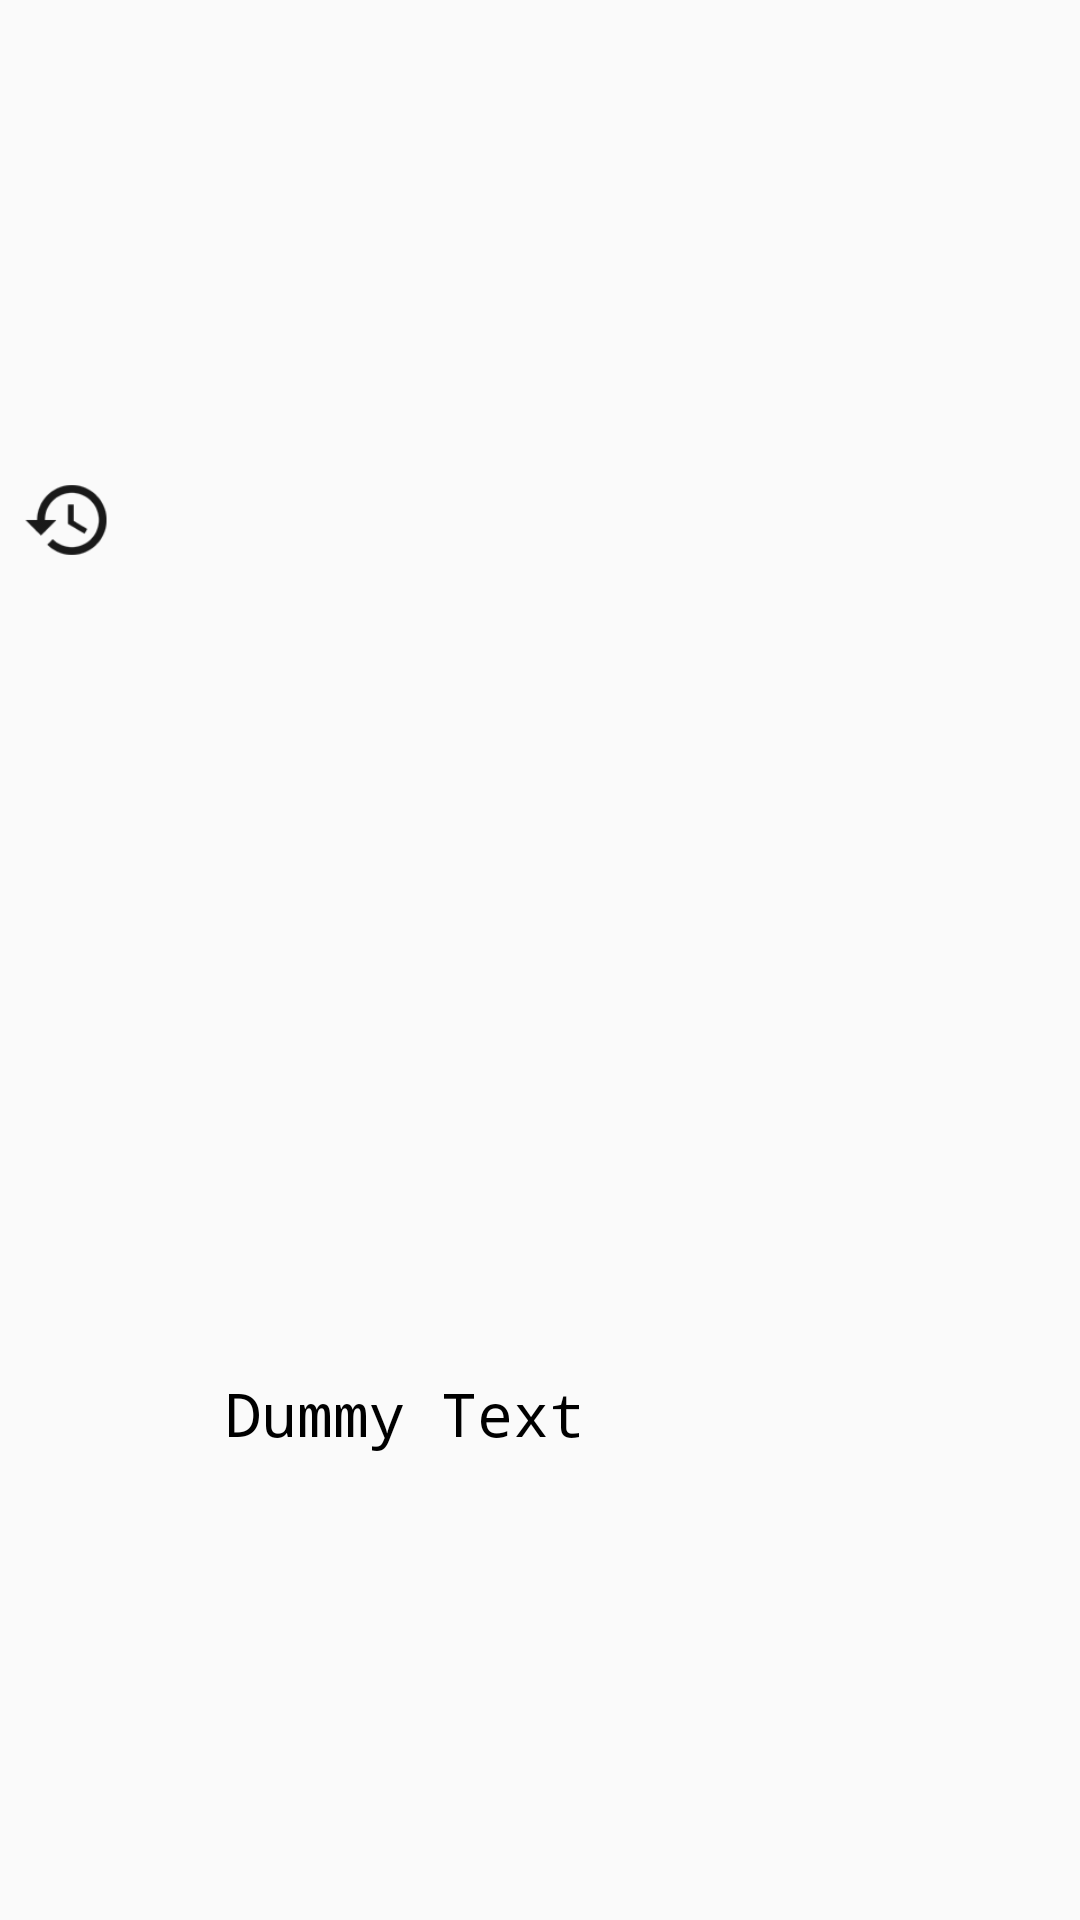

Icons on this 1080w x 1920h Android screen, each with its box as [x1, y1, x2, y2]:
history: [25, 485, 107, 555]
